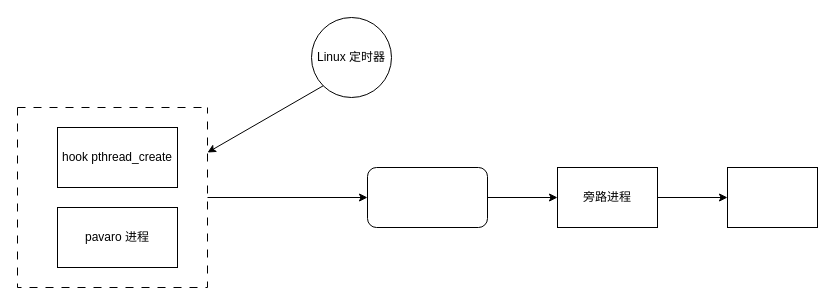
Some shapes in this 835 by 305 pixel diagram are drawn without their labels. The shapes that lost their labels are listed below. From the top down, each one's centre as x and y in pixels, then its label:
point (427, 197): 共享内存 / 文件映射mmap
point (772, 197): 处理、展示
